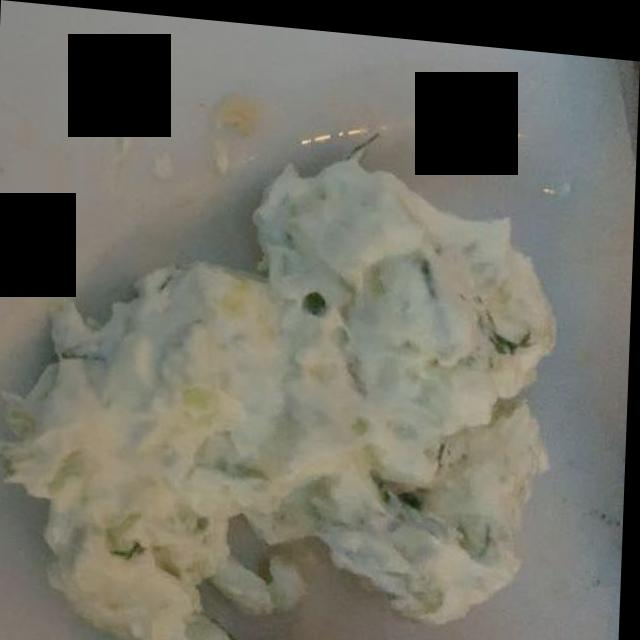tzatziki: (22, 152, 544, 637)
